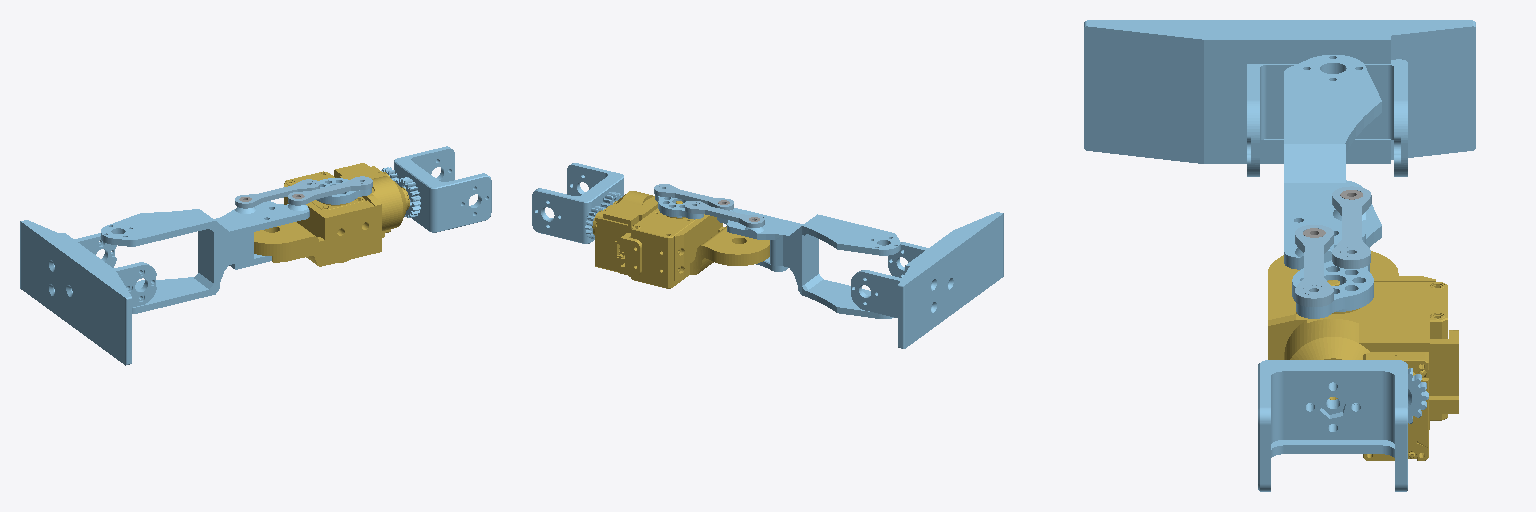
The robot description file, URDF, robot "left_leg_reorder":
<?xml version="1.0" ?><robot name="left_leg_reorder">  
  <link name="2xc430">    
    <visual>      
      <origin xyz="0 0 0" rpy="0 -0 0"/>      
      <geometry>        
        <mesh filename="package:///meshes/left_2xc430_visual.stl"/>        
      </geometry>      
      <material name="2xc430_material">        
        <color rgba="0.51698661238356047321 0.50347815951093488618 0.49050589017722012741 1.0"/>        
      </material>      
    </visual>    
    <collision>      
      <origin xyz="0 0 0" rpy="0 -0 0"/>      
      <geometry>        
        <mesh filename="package:///meshes/left_2xc430_collision.stl"/>        
      </geometry>      
    </collision>    
    <inertial>      
      <origin xyz="-0.0120001511339564923 0.00049588831385626367092 0.01850401924450319896" rpy="0 0 0"/>      
      <mass value="0.11059999999836234164"/>      
      <inertia ixx="2.2818802599017385101e-05" ixy="4.6888548258345894655e-08" ixz="4.6520143289217505514e-08" iyy="3.0871666424467696587e-05" iyz="-5.7477343899723834052e-07" izz="3.0871632082336744173e-05"/>      
    </inertial>    
  </link>  

  <link name="hip_yaw_link">    
    <visual>      
      <origin xyz="0 0 0" rpy="0 -0 0"/>      
      <geometry>        
        <mesh filename="package:///meshes/left_hip_yaw_link_visual.stl"/>        
      </geometry>      
      <material name="hip_yaw_link_material">        
        <color rgba="0.61568627450980395466 0.81176470588235294379 0.92941176470588238168 1.0"/>        
      </material>      
    </visual>    
    <collision>      
      <origin xyz="0 0 0" rpy="0 -0 0"/>      
      <geometry>        
        <mesh filename="package:///meshes/left_hip_yaw_link_collision.stl"/>        
      </geometry>      
    </collision>    
    <inertial>      
      <origin xyz="-2.6788828011920776553e-18 -0.015800610849654273676 -0.019005670096647751116" rpy="0 0 0"/>      
      <mass value="0.013199999999999992989"/>      
      <inertia ixx="5.789461597517412337e-06" ixy="-8.9146992682572530072e-42" ixz="2.3029045376022530017e-38" iyy="5.0110144042848776317e-06" iyz="1.1826010760651176287e-09" izz="2.7344876354814331659e-06"/>      
    </inertial>    
  </link>  

  <link name="spur_gear_21_teeth">    
    <visual>      
      <origin xyz="0 0 0" rpy="0 -0 0"/>      
      <geometry>        
        <mesh filename="package:///meshes/left_spur_gear_21_teeth_visual.stl"/>        
      </geometry>      
      <material name="spur_gear_21_teeth_material">        
        <color rgba="0.61568627450980395466 0.81176470588235294379 0.9294117647058824927 1.0"/>        
      </material>      
    </visual>    
    <collision>      
      <origin xyz="0 0 0" rpy="0 -0 0"/>      
      <geometry>        
        <mesh filename="package:///meshes/left_spur_gear_21_teeth_collision.stl"/>        
      </geometry>      
    </collision>    
    <inertial>      
      <origin xyz="-4.5505289335411606329e-11 -1.6782167131337769527e-11 -0.00249241020062506086" rpy="0 0 0"/>      
      <mass value="0.0022000000000000001325"/>      
      <inertia ixx="7.0162310059594196881e-08" ixy="0" ixz="3.5821515246363659276e-39" iyy="7.016231005804746178e-08" iyz="3.4592689640492888782e-39" izz="1.3125544198538289306e-07"/>      
    </inertial>    
  </link>  

  <link name="left_hip_pitch_link">    
    <visual>      
      <origin xyz="0 0 0" rpy="0 -0 0"/>      
      <geometry>        
        <mesh filename="package:///meshes/left_hip_pitch_link_visual.stl"/>        
      </geometry>      
      <material name="left_hip_pitch_link_material">        
        <color rgba="0.80773802221328794282 0.71541030077254164077 0.35058406659986895981 1.0"/>        
      </material>      
    </visual>    
    <collision>      
      <origin xyz="0 0 0" rpy="0 -0 0"/>      
      <geometry>        
        <mesh filename="package:///meshes/left_hip_pitch_link_collision.stl"/>        
      </geometry>      
    </collision>    
    <inertial>      
      <origin xyz="-0.0099310748247876095424 -0.0055733268638735221703 0.039014117054800540041" rpy="0 0 0"/>      
      <mass value="0.14895408167669133004"/>      
      <inertia ixx="7.3955327919484554534e-05" ixy="-1.1805488631449676488e-06" ixz="-8.0603251552292261945e-06" iyy="8.8995102919697799664e-05" iyz="1.1275669888581082312e-06" izz="4.229226925645443425e-05"/>      
    </inertial>    
  </link>  

  <link name="spur_gear_18_teeth">    
    <visual>      
      <origin xyz="0 0 0" rpy="0 -0 0"/>      
      <geometry>        
        <mesh filename="package:///meshes/left_spur_gear_18_teeth_visual.stl"/>        
      </geometry>      
      <material name="spur_gear_18_teeth_material">        
        <color rgba="0.61568627450980395466 0.81176470588235294379 0.92941176470588238168 1.0"/>        
      </material>      
    </visual>    
    <collision>      
      <origin xyz="0 0 0" rpy="0 -0 0"/>      
      <geometry>        
        <mesh filename="package:///meshes/left_spur_gear_18_teeth_collision.stl"/>        
      </geometry>      
    </collision>    
    <inertial>      
      <origin xyz="-5.1949311242382435497e-14 -2.4694124227557309252e-13 0.0071513122316232257542" rpy="0 0 0"/>      
      <mass value="0.00080399356292630238564"/>      
      <inertia ixx="2.0123636882888889372e-08" ixy="2.1553335600797640032e-16" ixz="-2.0678132065284356934e-39" iyy="2.012363672795583975e-08" iyz="-1.9859628258607443751e-39" izz="3.1595601997159143493e-08"/>      
    </inertial>    
  </link>  

  <joint name="left_hip_yaw_drive" type="revolute">    
    <origin xyz="-0.019199999999995859268 0.00020000000000327047833 0.0064999999999706542519" rpy="-3.1415926535897922278 -1.1023290397713749775e-15 3.1415926535897926719"/>    
    <parent link="left_hip_pitch_link"/>    
    <child link="spur_gear_18_teeth"/>    
    <axis xyz="0 0 1"/>    
    <limit effort="1" velocity="20" lower="-1.8325957145940461324" upper="1.8325957145940461324"/>    
    <joint_properties friction="0.0"/>    
  </joint>  

  <link name="left_calf_link">    
    <visual>      
      <origin xyz="0 0 0" rpy="0 -0 0"/>      
      <geometry>        
        <mesh filename="package:///meshes/left_calf_link_visual.stl"/>        
      </geometry>      
      <material name="left_calf_link_material">        
        <color rgba="0.61568627450980395466 0.81176470588235294379 0.92941176470588238168 1.0"/>        
      </material>      
    </visual>    
    <collision>      
      <origin xyz="0 0 0" rpy="0 -0 0"/>      
      <geometry>        
        <mesh filename="package:///meshes/left_calf_link_collision.stl"/>        
      </geometry>      
    </collision>    
    <inertial>      
      <origin xyz="-0.0043450054391243842986 0.040752982165250653535 0.0087116093515534290953" rpy="0 0 0"/>      
      <mass value="0.030999999999999992839"/>      
      <inertia ixx="3.3069388685112529225e-05" ixy="-1.3783307153200129991e-06" ixz="-1.2742534026331719223e-07" iyy="7.7316525337314278736e-06" iyz="-7.3356500593883571098e-08" izz="2.8031377753987348096e-05"/>      
    </inertial>    
  </link>  

  <link name="bearing_683">    
    <visual>      
      <origin xyz="0 0 0" rpy="0 -0 0"/>      
      <geometry>        
        <mesh filename="package:///meshes/left_bearing_683_visual.stl"/>        
      </geometry>      
      <material name="bearing_683_material">        
        <color rgba="0.64705882352941179736 0.64705882352941179736 0.64705882352941179736 1.0"/>        
      </material>      
    </visual>    
    <collision>      
      <origin xyz="0 0 0" rpy="0 -0 0"/>      
      <geometry>        
        <mesh filename="package:///meshes/left_bearing_683_collision.stl"/>        
      </geometry>      
    </collision>    
    <inertial>      
      <origin xyz="-2.7648254672676536231e-17 -2.4186774283160226211e-19 -0.0015500000000000003792" rpy="0 0 0"/>      
      <mass value="0.00048694686130641793437"/>      
      <inertia ixx="2.1551456503319887385e-09" ixy="4.9267306786690215198e-28" ixz="-6.9624168202103941184e-40" iyy="2.1551456503319883249e-09" iyz="0" izz="3.5303647444715305817e-09"/>      
    </inertial>    
  </link>  

  <joint name="left_knee_front_rev_2" type="revolute">    
    <origin xyz="-0.0057402514854764446692 -0.013858192987668910279 0.026199999999999806777" rpy="3.141592653589793116 -2.6658986873461889469e-19 -1.5720018459275955092"/>    
    <parent link="left_calf_link"/>    
    <child link="bearing_683"/>    
    <axis xyz="0 0 1"/>    
    <limit effort="1" velocity="20"/>    
    <joint_properties friction="0.0"/>    
  </joint>  

  <link name="bearing_683_2">    
    <visual>      
      <origin xyz="0 0 0" rpy="0 -0 0"/>      
      <geometry>        
        <mesh filename="package:///meshes/left_bearing_683_2_visual.stl"/>        
      </geometry>      
      <material name="bearing_683_2_material">        
        <color rgba="0.64705882352941179736 0.64705882352941179736 0.64705882352941179736 1.0"/>        
      </material>      
    </visual>    
    <collision>      
      <origin xyz="0 0 0" rpy="0 -0 0"/>      
      <geometry>        
        <mesh filename="package:///meshes/left_bearing_683_2_collision.stl"/>        
      </geometry>      
    </collision>    
    <inertial>      
      <origin xyz="1.0732094295237771334e-19 -1.1092294808200058093e-18 -0.0015500000000000003792" rpy="0 0 0"/>      
      <mass value="0.00048694686130641793437"/>      
      <inertia ixx="2.1551456503319895657e-09" ixy="-5.8026584312313582246e-29" ixz="-2.2425384383440883957e-39" iyy="2.1551456503319883249e-09" iyz="1.1443785659275753027e-59" izz="3.5303647444715305817e-09"/>      
    </inertial>    
  </link>  

  <joint name="left_knee_back_rev_2" type="revolute">    
    <origin xyz="0.0057402514854763128302 0.013858192987669520901 0.026199999999999820655" rpy="3.1415926535897926719 1.2765047101265124586e-15 -1.5719345627640661789"/>    
    <parent link="left_calf_link"/>    
    <child link="bearing_683_2"/>    
    <axis xyz="0 0 1"/>    
    <limit effort="1" velocity="20"/>    
    <joint_properties friction="0.0"/>    
  </joint>  

  <link name="left_ank_pitch_link">    
    <visual>      
      <origin xyz="0 0 0" rpy="0 -0 0"/>      
      <geometry>        
        <mesh filename="package:///meshes/left_ank_pitch_link_visual.stl"/>        
      </geometry>      
      <material name="left_ank_pitch_link_material">        
        <color rgba="0.70321688500203349825 0.64514870846184457776 0.40484735422826251261 1.0"/>        
      </material>      
    </visual>    
    <collision>      
      <origin xyz="0 0 0" rpy="0 -0 0"/>      
      <geometry>        
        <mesh filename="package:///meshes/left_ank_pitch_link_collision.stl"/>        
      </geometry>      
    </collision>    
    <inertial>      
      <origin xyz="0.017770241891401045847 0.012301334508572351473 0.018813528244421662966" rpy="0 0 0"/>      
      <mass value="0.1767637669506791076"/>      
      <inertia ixx="4.7283316680253283646e-05" ixy="-1.3380598598450345022e-06" ixz="-5.5304058905127566903e-07" iyy="0.00010706456048089217008" iyz="-5.322513783954201532e-08" izz="0.00012185522397136366337"/>      
    </inertial>    
  </link>  

  <link name="ank_roll_link">    
    <visual>      
      <origin xyz="0 0 0" rpy="0 -0 0"/>      
      <geometry>        
        <mesh filename="package:///meshes/left_ank_roll_link_visual.stl"/>        
      </geometry>      
      <material name="ank_roll_link_material">        
        <color rgba="0.61568627450980384364 0.81176470588235283277 0.92941176470588227065 1.0"/>        
      </material>      
    </visual>    
    <collision>      
      <origin xyz="0 0 0" rpy="0 -0 0"/>      
      <geometry>        
        <mesh filename="package:///meshes/left_ank_roll_link_collision.stl"/>        
      </geometry>      
    </collision>    
    <inertial>      
      <origin xyz="-0.027003066516822063492 -2.0057306044881892286e-12 0.033764011359896428655" rpy="0 0 0"/>      
      <mass value="0.042600000000000012856"/>      
      <inertia ixx="3.7284397827464409376e-05" ixy="-5.5175845547796796131e-16" ixz="2.3929183768080916145e-06" iyy="3.7589276943350443088e-05" iyz="5.0934855377808009464e-12" izz="1.0090430906786770866e-05"/>      
    </inertial>    
  </link>  

  <joint name="left_ank_roll" type="revolute">    
    <origin xyz="0.022749999999983960136 -6.9111383282915994641e-15 0.019000000000000714234" rpy="-1.5707963267949474062 -1.4843511765636387656e-14 1.5707963267950975084"/>    
    <parent link="left_ank_pitch_link"/>    
    <child link="ank_roll_link"/>    
    <axis xyz="0 0 1"/>    
    <limit effort="1" velocity="20" lower="-1.570796326794896558" upper="1.570796326794896558"/>    
    <joint_properties friction="0.0"/>    
  </joint>  

  <joint name="left_ank_pitch" type="revolute">    
    <origin xyz="6.0459825159226438491e-16 0.099999999999999644729 0.027749999999999767908" rpy="-3.1415926535897926719 2.1632341620044295324e-16 -3.303485617132085651e-14"/>    
    <parent link="left_calf_link"/>    
    <child link="left_ank_pitch_link"/>    
    <axis xyz="0 0 1"/>    
    <limit effort="1" velocity="20" lower="-1.7453292519943295336" upper="0.785398163397448279"/>    
    <joint_properties friction="0.0"/>    
  </joint>  

  <joint name="left_knee" type="revolute">    
    <origin xyz="-2.0388404761970504005e-17 -0.0087500000000001014466 0.085949999999999859845" rpy="1.5707963267948985564 1.8697993545483485847e-15 3.1415926535897922278"/>    
    <parent link="left_hip_pitch_link"/>    
    <child link="left_calf_link"/>    
    <axis xyz="0 0 1"/>    
    <limit effort="1" velocity="20" lower="-2.0943951023931952626" upper="0"/>    
    <joint_properties friction="0.0"/>    
  </joint>  

  <link name="xm430_plate">    
    <visual>      
      <origin xyz="0 0 0" rpy="0 -0 0"/>      
      <geometry>        
        <mesh filename="package:///meshes/left_xm430_plate_visual.stl"/>        
      </geometry>      
      <material name="xm430_plate_material">        
        <color rgba="0.61568627450980395466 0.81176470588235294379 0.92941176470588227065 1.0"/>        
      </material>      
    </visual>    
    <collision>      
      <origin xyz="0 0 0" rpy="0 -0 0"/>      
      <geometry>        
        <mesh filename="package:///meshes/left_xm430_plate_collision.stl"/>        
      </geometry>      
    </collision>    
    <inertial>      
      <origin xyz="1.4071106902214798841e-18 -2.6039898032607076159e-18 0.0025278513919583887187" rpy="0 0 0"/>      
      <mass value="0.0026999999999999997093"/>      
      <inertia ixx="1.2887178787151822041e-07" ixy="5.87395625563035933e-08" ixz="-1.7975784406729202332e-38" iyy="2.4635091298412534083e-07" iyz="-4.0956813139218174709e-39" izz="3.6467998413810316538e-07"/>      
    </inertial>    
  </link>  

  <link name="knee_rod">    
    <visual>      
      <origin xyz="0 0 0" rpy="0 -0 0"/>      
      <geometry>        
        <mesh filename="package:///meshes/left_knee_rod_visual.stl"/>        
      </geometry>      
      <material name="knee_rod_material">        
        <color rgba="0.62051618944235198416 0.78640765248647581664 0.88594253031295011613 1.0"/>        
      </material>      
    </visual>    
    <collision>      
      <origin xyz="0 0 0" rpy="0 -0 0"/>      
      <geometry>        
        <mesh filename="package:///meshes/left_knee_rod_collision.stl"/>        
      </geometry>      
    </collision>    
    <inertial>      
      <origin xyz="0.017534287432906647125 -4.2275889155916718482e-05 -0.0015987301647640860848" rpy="0 0 0"/>      
      <mass value="0.003162946861306418795"/>      
      <inertia ixx="2.4225257802878432684e-08" ixy="4.2664654149332194328e-10" ixz="4.9178282652746138198e-10" iyy="8.1758847647263870163e-07" iyz="-1.1857086489790707382e-12" izz="8.370492537402261536e-07"/>      
    </inertial>    
  </link>  

  <joint name="left_knee_front_rev_1" type="revolute">    
    <origin xyz="0.013858192987669312735 -0.0057402514854763518615 0.0050000000000000183187" rpy="-3.1415926535897926719 5.565031046053354564e-16 3.1403871344570974955"/>    
    <parent link="xm430_plate"/>    
    <child link="knee_rod"/>    
    <axis xyz="0 0 1"/>    
    <limit effort="1" velocity="20"/>    
    <joint_properties friction="0.0"/>    
  </joint>  

  <link name="knee_rod_2">    
    <visual>      
      <origin xyz="0 0 0" rpy="0 -0 0"/>      
      <geometry>        
        <mesh filename="package:///meshes/left_knee_rod_2_visual.stl"/>        
      </geometry>      
      <material name="knee_rod_2_material">        
        <color rgba="0.62051618944235198416 0.78640765248647581664 0.88594253031295011613 1.0"/>        
      </material>      
    </visual>    
    <collision>      
      <origin xyz="0 0 0" rpy="0 -0 0"/>      
      <geometry>        
        <mesh filename="package:///meshes/left_knee_rod_2_collision.stl"/>        
      </geometry>      
    </collision>    
    <inertial>      
      <origin xyz="0.017534290197983727622 -3.9916362690055996005e-05 -0.0015987301647640411988" rpy="0 0 0"/>      
      <mass value="0.003162946861306418795"/>      
      <inertia ixx="2.4225146182602337484e-08" ixy="4.0283436058596815725e-10" ixz="4.9178290407814696075e-10" iyy="8.1758853228271188338e-07" iyz="-1.1195311895769243565e-12" izz="8.3704919793004433987e-07"/>      
    </inertial>    
  </link>  

  <joint name="left_knee_back_rev_1" type="revolute">    
    <origin xyz="-0.013858192987669271101 0.0057402514854763241059 0.0050000000000000391354" rpy="-3.1415926535897922278 -2.1080453069702113353e-15 3.1404544176206248274"/>    
    <parent link="xm430_plate"/>    
    <child link="knee_rod_2"/>    
    <axis xyz="0 0 1"/>    
    <limit effort="1" velocity="20"/>    
    <joint_properties friction="0.0"/>    
  </joint>  

  <joint name="left_knee_act" type="revolute">    
    <origin xyz="6.9695166342471272367e-17 0.012449999999999992323 0.044500000000000053402" rpy="-1.5707963267948956698 1.5707963267948954478 0"/>    
    <parent link="left_hip_pitch_link"/>    
    <child link="xm430_plate"/>    
    <axis xyz="0 0 1"/>    
    <limit effort="1" velocity="20" lower="-2.0943951023931952626" upper="0"/>    
    <joint_properties friction="0.0"/>    
  </joint>  

  <joint name="left_hip_yaw_driven" type="revolute">    
    <origin xyz="-1.0958428267520217697e-17 2.0816681711721685133e-17 -0.0050000000000001224021" rpy="-3.1415926535897926719 -1.458624115281054252e-15 -4.4435634532580858026e-16"/>    
    <parent link="spur_gear_21_teeth"/>    
    <child link="left_hip_pitch_link"/>    
    <axis xyz="0 0 1"/>    
    <limit effort="1" velocity="20" lower="-1.570796326794896558" upper="1.570796326794896558"/>    
    <joint_properties friction="0.0"/>    
  </joint>  

  <joint name="left_hip_yaw_fixed" type="fixed">    
    <origin xyz="-3.4694469519536141888e-18 -0.027999999999999986705 -0.018999999999999999528" rpy="-1.5707963267948972241 1.5707963267948956698 0"/>    
    <parent link="hip_yaw_link"/>    
    <child link="spur_gear_21_teeth"/>    
    <axis xyz="0 0 1"/>    
    <limit effort="1" velocity="20"/>    
    <joint_properties friction="0.0"/>    
  </joint>  

  <joint name="left_hip_roll" type="revolute">    
    <origin xyz="-0.024000000716139988088 0.019000000152447765744 0.019000000152447751867" rpy="-1.5707963267948970021 -1.5707963267948961139 0"/>    
    <parent link="2xc430"/>    
    <child link="hip_yaw_link"/>    
    <axis xyz="0 0 1"/>    
    <limit effort="1" velocity="20" lower="-0.785398163397448279" upper="0.785398163397448279"/>    
    <joint_properties friction="0.0"/>    
  </joint>  


</robot>

--- Render facts (derived) ---
The picture shows the robot from 3 angles, left to right: view 1: azimuth 30°, elevation 25°; view 2: azimuth 150°, elevation 25°; view 3: azimuth 270°, elevation 25°; orthographic projection.
Model left_leg_reorder with 13 links and 12 joints (11 revolute, 1 fixed), rooted at 2xc430, posed every joint at zero.
Visible links, largest first — view 1: ank_roll_link, left_calf_link, left_hip_pitch_link, hip_yaw_link, knee_rod, knee_rod_2, xm430_plate; view 2: ank_roll_link, left_hip_pitch_link, left_calf_link, hip_yaw_link, knee_rod_2, knee_rod, xm430_plate; view 3: ank_roll_link, left_hip_pitch_link, hip_yaw_link, left_calf_link, xm430_plate, knee_rod_2, knee_rod, spur_gear_18_teeth.
Boxes of the visible links, x1,y1,x2,y2 form: ank_roll_link: (20, 220, 156, 365); left_calf_link: (101, 201, 309, 313); left_hip_pitch_link: (254, 163, 409, 266); hip_yaw_link: (394, 146, 491, 232); knee_rod: (288, 176, 372, 205); knee_rod_2: (235, 179, 319, 208); xm430_plate: (316, 178, 371, 204); ank_roll_link: (851, 212, 1003, 348); left_hip_pitch_link: (592, 191, 769, 288); left_calf_link: (717, 208, 900, 318); hip_yaw_link: (532, 163, 623, 243); knee_rod_2: (685, 201, 764, 227); knee_rod: (654, 184, 733, 210); xm430_plate: (655, 195, 703, 219); ank_roll_link: (1084, 20, 1475, 176); left_hip_pitch_link: (1268, 251, 1458, 460); hip_yaw_link: (1258, 360, 1407, 491); left_calf_link: (1284, 55, 1381, 269); xm430_plate: (1292, 260, 1373, 318); knee_rod_2: (1332, 186, 1371, 268); knee_rod: (1295, 225, 1333, 306); spur_gear_18_teeth: (1408, 368, 1428, 423).
Size in the robot's own frame: 0.2689 by 0.12 by 0.0485 metres.
11 mesh visuals loaded from 13 distinct referenced files (11 binary STL); not drawn: 2 (reference not matched to a file when rendering).